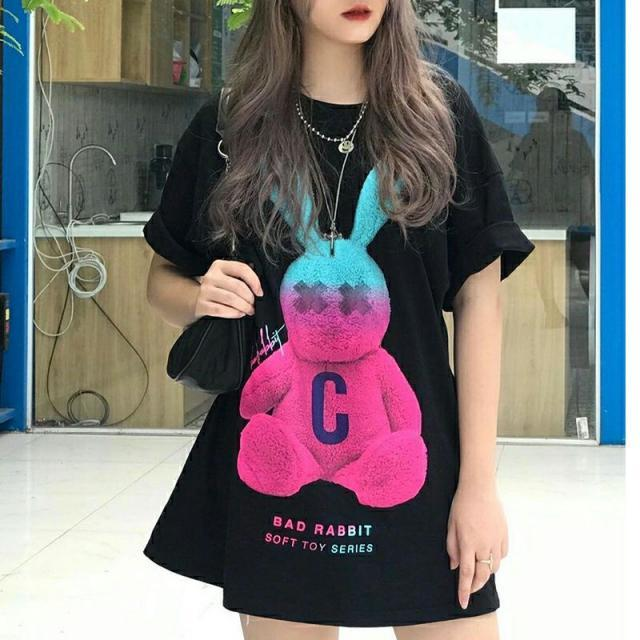Shirt: (144, 83, 532, 631)
